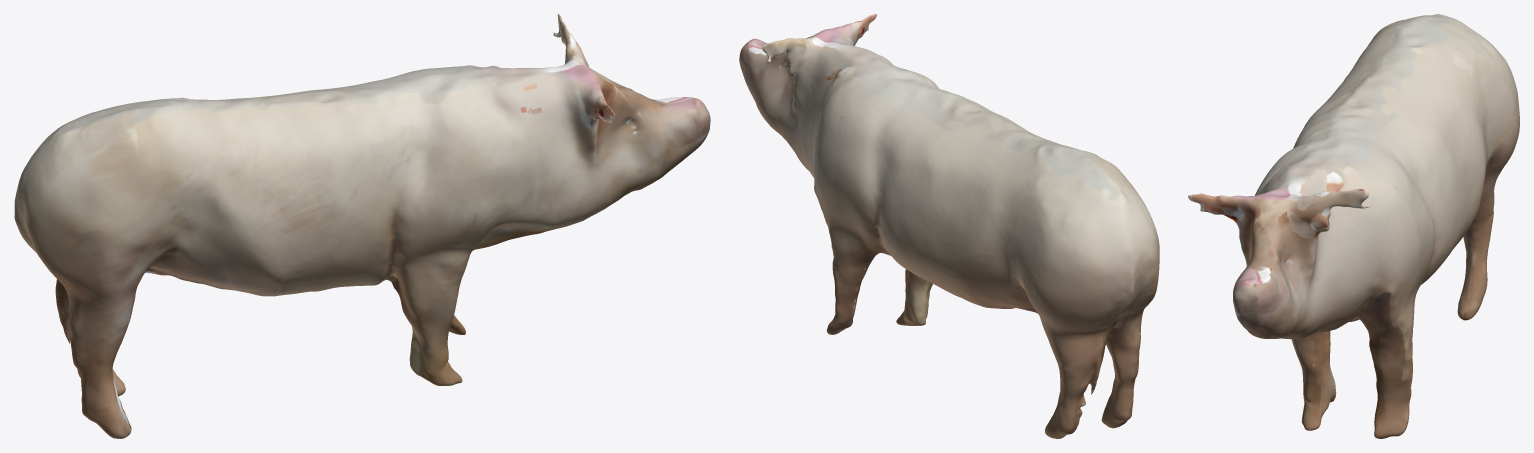
Rendered from joven.glb.
3 renders of one model, left to right at view 1: azimuth 30°, elevation 25°; view 2: azimuth 150°, elevation 25°; view 3: azimuth 270°, elevation 25°, orthographic. The views are drawn at different scales.
Parts seen in each view (by area): view 1: mesh; view 2: mesh; view 3: mesh.
Part boxes in pixels (bbox=[...]): mesh: bbox=[14, 14, 710, 438]; mesh: bbox=[739, 14, 1159, 438]; mesh: bbox=[1188, 14, 1519, 438].
Size of the model in its own units: 1.82 by 0.993 by 0.9499.
Materials: 1 (1 with a texture image).
